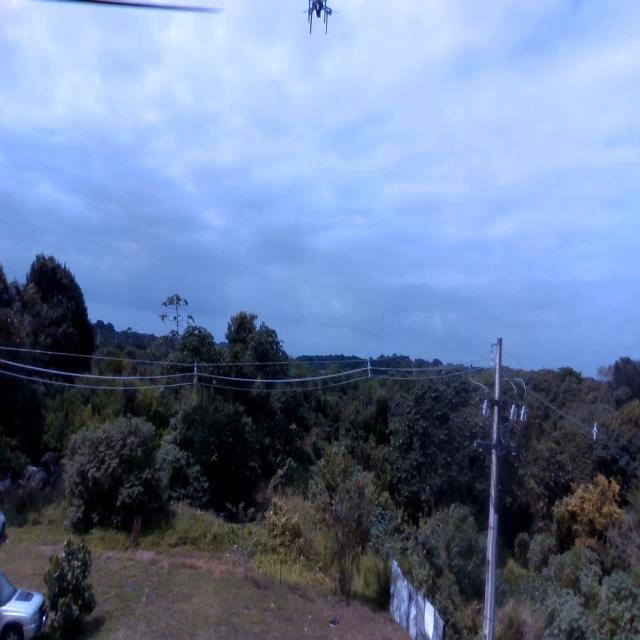-uav-: (298, 0, 341, 42)
